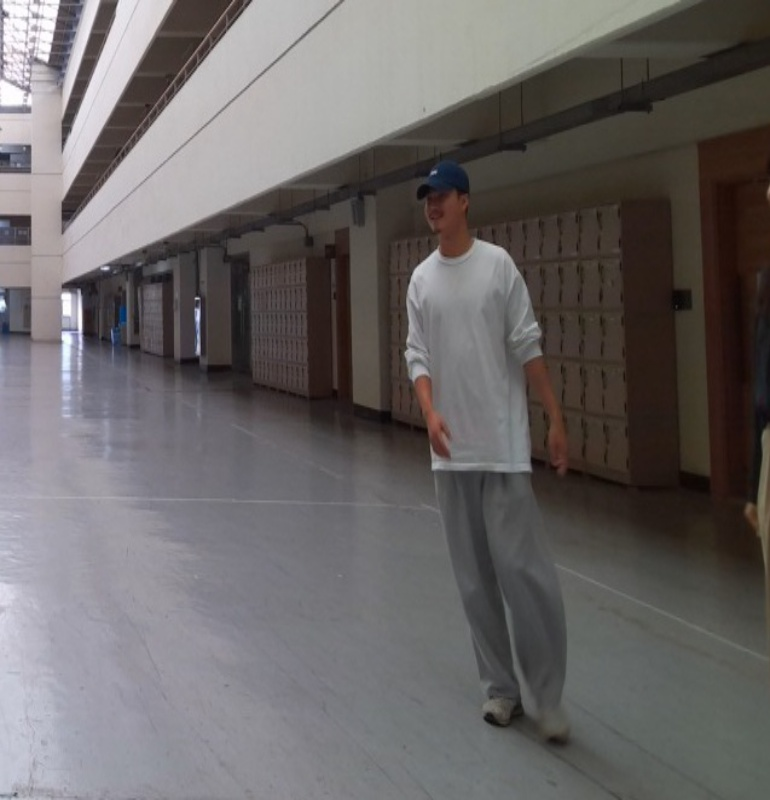person: (403, 158, 578, 746)
